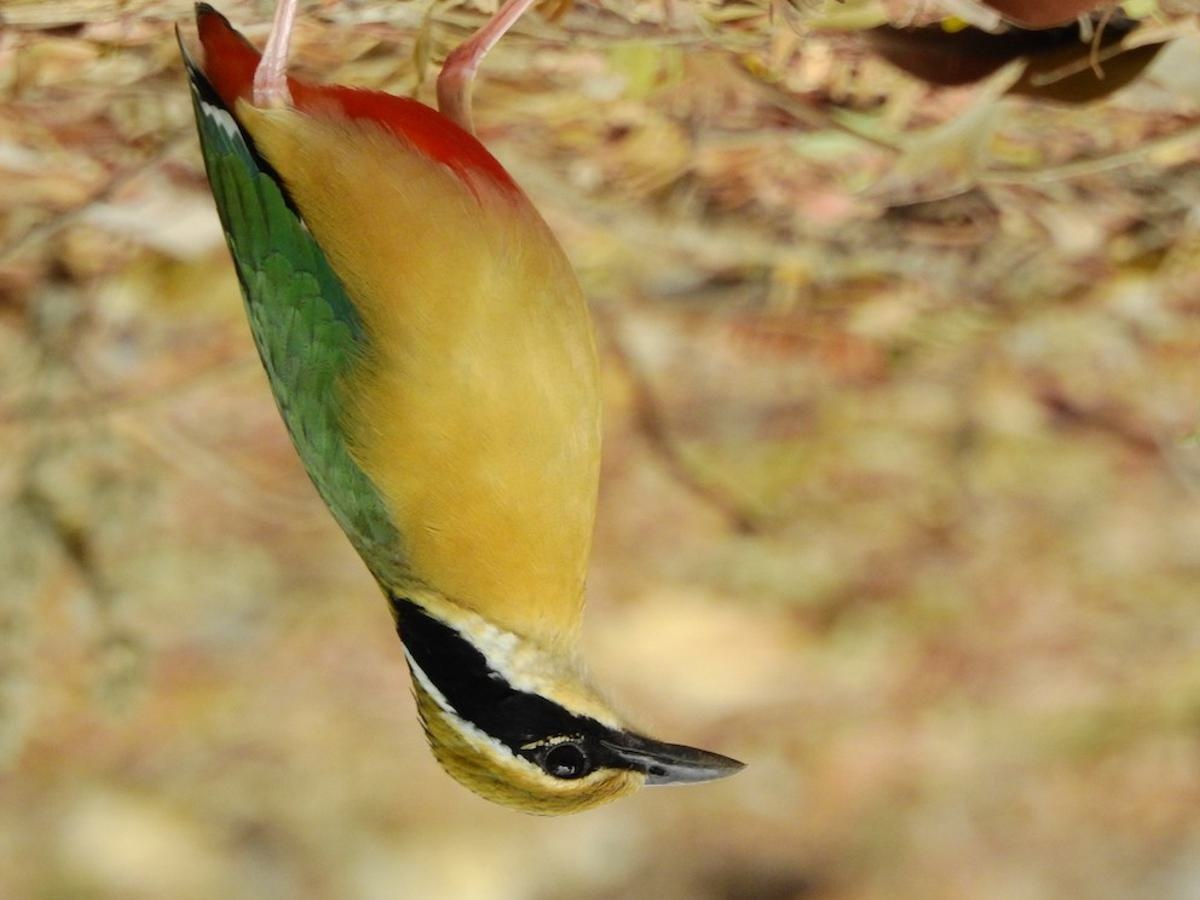pitta: (165, 3, 775, 835)
